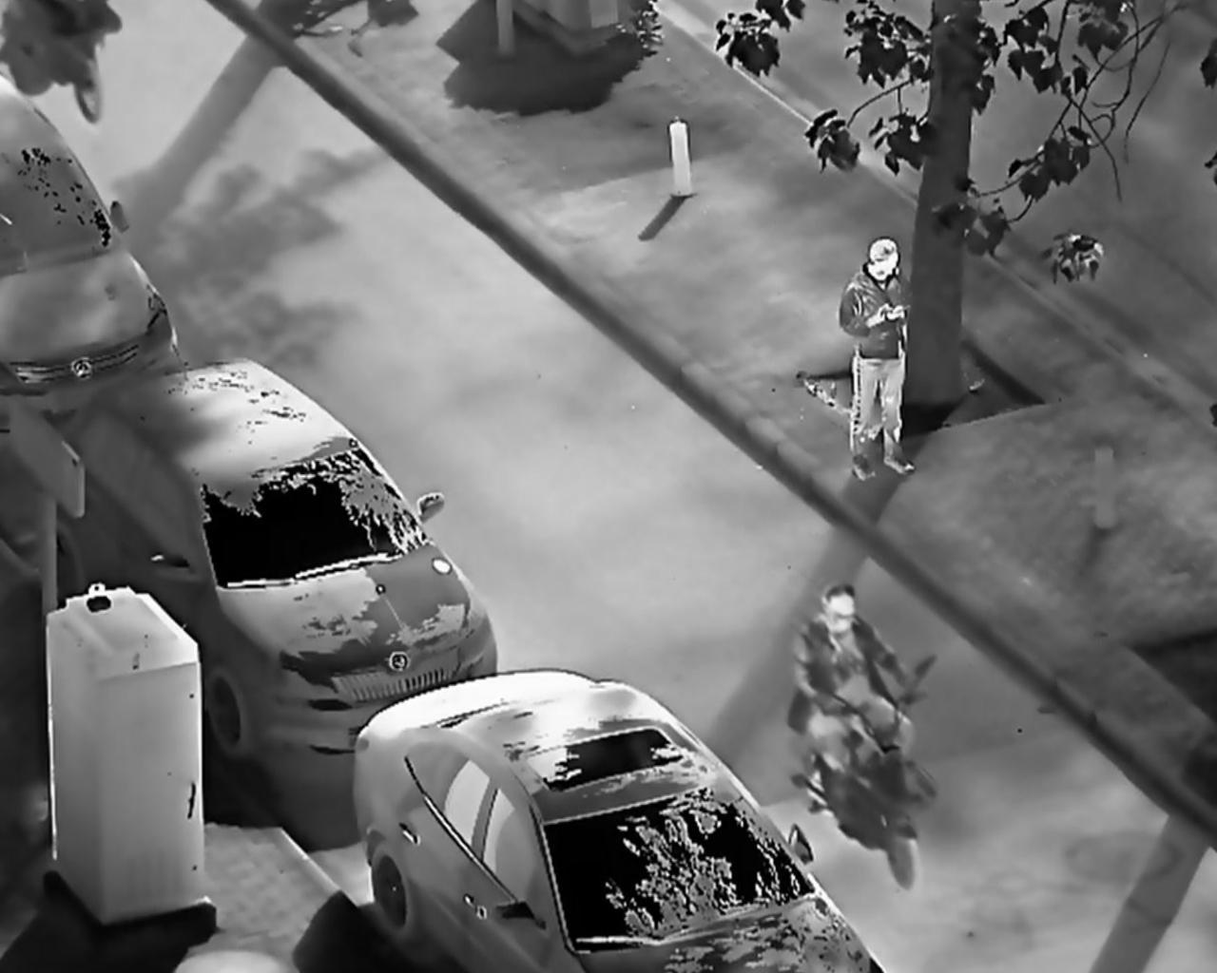person: (784, 581, 927, 812), (837, 233, 927, 486)
